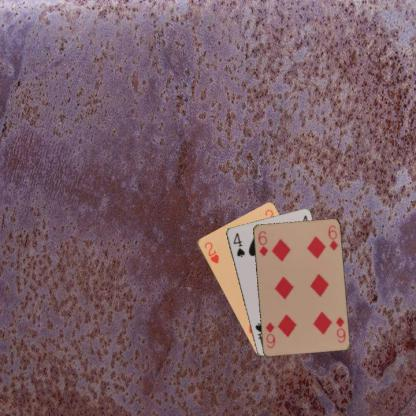2h: (202, 239, 220, 265)
4s: (231, 230, 246, 258)
6d: (332, 314, 347, 344), (255, 228, 269, 257)
